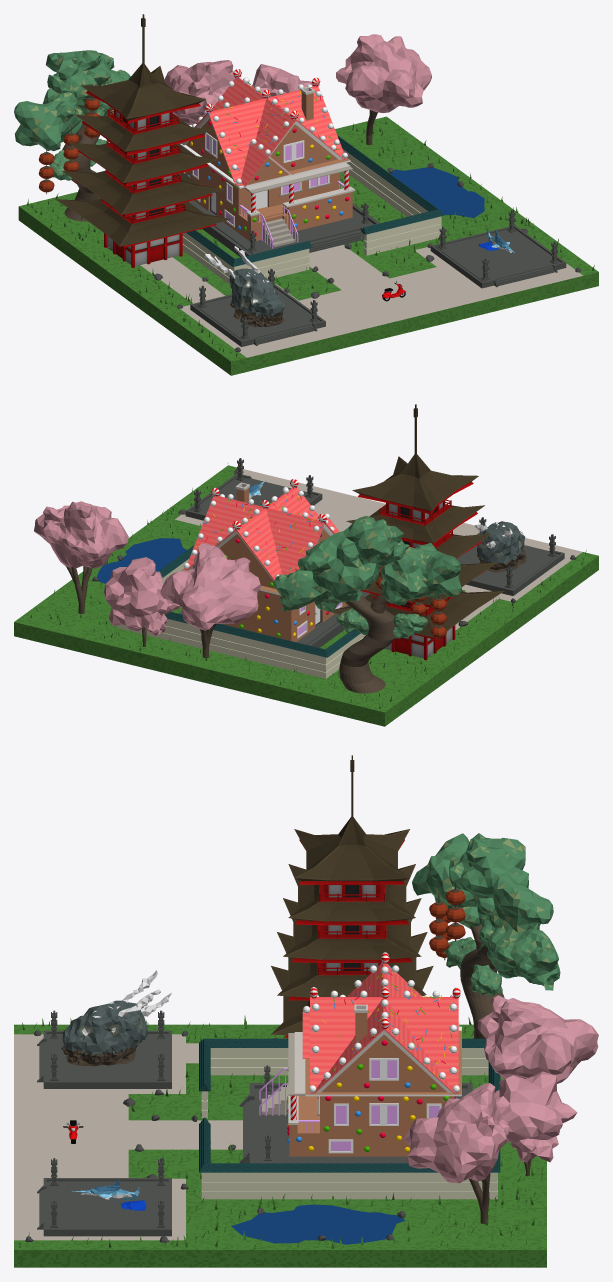
The picture shows the model from 3 angles, top to bottom: view 1: azimuth 30°, elevation 25°; view 2: azimuth 150°, elevation 25°; view 3: azimuth 270°, elevation 25°; orthographic projection. The views are drawn at different scales.
Parts seen in each view (by area): view 1: Cube.005, Cube.1203, OBJRANDOM_METEORITE; view 2: Cube.005, Cube.1203, OBJRANDOM_METEORITE; view 3: Cube.005, Cube.1203, OBJRANDOM_METEORITE, ANIMAL_PEZ_ESPADA.
Boxes of the visible parts, x1=… form: Cube.005: x1=14, y1=14, x2=598, y2=375; Cube.1203: x1=179, y1=69, x2=355, y2=248; OBJRANDOM_METEORITE: x1=205, y1=246, x2=284, y2=327; Cube.005: x1=14, y1=404, x2=598, y2=726; Cube.1203: x1=181, y1=479, x2=347, y2=641; OBJRANDOM_METEORITE: x1=474, y1=521, x2=526, y2=572; Cube.005: x1=14, y1=755, x2=598, y2=1267; Cube.1203: x1=259, y1=952, x2=461, y2=1156; OBJRANDOM_METEORITE: x1=61, y1=970, x2=171, y2=1066; ANIMAL_PEZ_ESPADA: x1=71, y1=1180, x2=146, y2=1210.
Bounding box in the file's own units: 4528 × 2698 × 4389.
48 materials, 6 textured.
